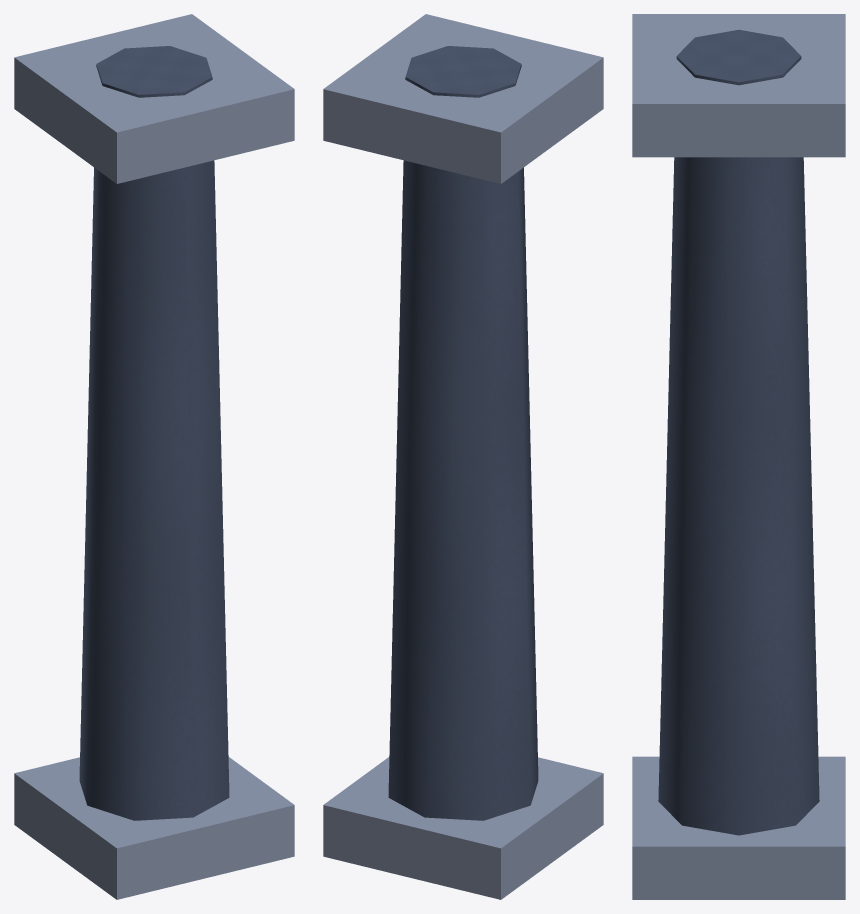
File: detail-pillar.glb
3 views of the same model, side by side, from view 1: azimuth 30°, elevation 25°; view 2: azimuth 150°, elevation 25°; view 3: azimuth 270°, elevation 25° (orthographic). The views are drawn at different scales.
Parts seen in each view (by area): view 1: detail-pillar_stone, detail-pillar_edge; view 2: detail-pillar_stone, detail-pillar_edge; view 3: detail-pillar_stone, detail-pillar_edge.
Part boxes in pixels (<box>): detail-pillar_stone: <box>79,46,229,820</box>; detail-pillar_edge: <box>14,14,294,899</box>; detail-pillar_stone: <box>388,46,538,820</box>; detail-pillar_edge: <box>323,14,603,899</box>; detail-pillar_stone: <box>658,29,819,835</box>; detail-pillar_edge: <box>632,14,845,899</box>.
Bounding box in the file's own units: 0.65 × 2.7 × 0.65.
Materials: 2 (1 with a texture image).
